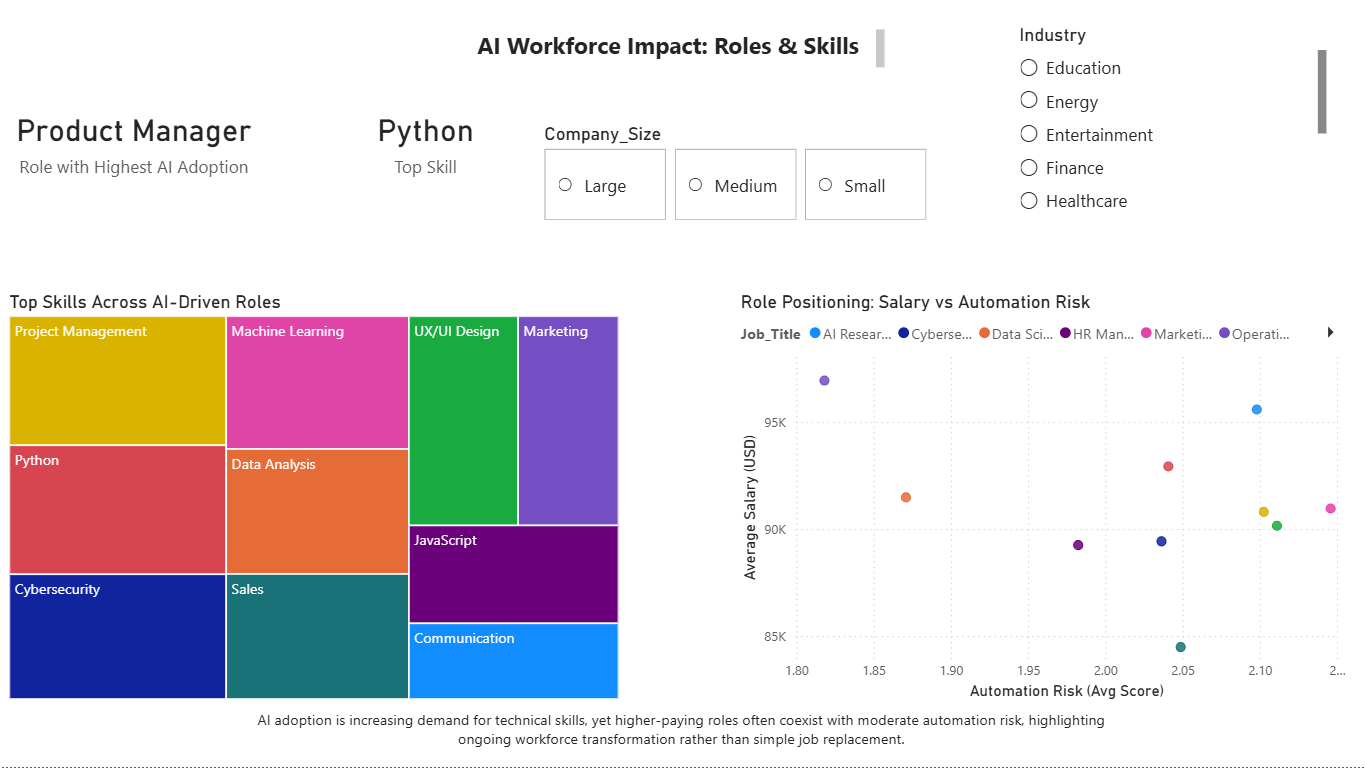

What the dashboard file says about the page in this screenshot:
{"tool":"powerbi","page":{"name":"AI Workforce Impact: Roles & Skills","canvas":[1280,720],"ordinal":3},"visuals":[{"type":"card","fields":{"Values":["ai_job_market_insights.Top AI Role"]},"box":[10.1,47.8,241.7,177.5],"z":0},{"type":"card","fields":{"Values":["ai_job_market_insights.Top Skill"]},"box":[251.8,47.8,300.9,177.5],"z":1000},{"type":"textbox","box":[445.6,29,389,50.4],"z":1001},{"type":"advancedSlicerVisual","fields":{"Values":["ai_job_market_insights.Company_Size"]},"box":[508.6,120.9,365.1,95.7],"z":1002},{"type":"listSlicer","fields":{"Values":["ai_job_market_insights.Industry"]},"box":[950.2,29.5,295.3,187.5],"z":1003},{"type":"treemap","title":"Top Skills Across AI-Driven Roles","fields":{"Values":["CountNonNull(ai_job_market_insights.Required_Skills)"],"Details":["ai_job_market_insights.Required_Skills"]},"box":[10.1,276.9,576.6,385.2],"z":1004},{"type":"scatterChart","title":"Role Positioning: Salary vs Automation Risk","fields":{"X":["Avg(ai_job_market_insights.Automation Risk Score)"],"Y":["Avg(ai_job_market_insights.Overall Average Salary)"],"Series":["ai_job_market_insights.Job_Title"]},"box":[691.1,276.9,572.8,385.2],"z":1005},{"type":"textbox","box":[226.6,662.2,827.1,47.8],"z":1006}]}

Visuals, with their boxes in screenshot pixels (x1, y1, x2, y2), scaled from the page's 1280x720 canvas onto the 1365x768 screenshot:
card - ai_job_market_insights.Top AI Role: {"x1": 11, "y1": 51, "x2": 269, "y2": 240}
card - ai_job_market_insights.Top Skill: {"x1": 269, "y1": 51, "x2": 589, "y2": 240}
textbox: {"x1": 475, "y1": 31, "x2": 890, "y2": 85}
advancedSlicerVisual - ai_job_market_insights.Company_Size: {"x1": 542, "y1": 129, "x2": 932, "y2": 231}
listSlicer - ai_job_market_insights.Industry: {"x1": 1013, "y1": 31, "x2": 1328, "y2": 231}
"Top Skills Across AI-Driven Roles" treemap: {"x1": 11, "y1": 295, "x2": 626, "y2": 706}
"Role Positioning: Salary vs Automation Risk" scatterChart: {"x1": 737, "y1": 295, "x2": 1348, "y2": 706}
textbox: {"x1": 242, "y1": 706, "x2": 1124, "y2": 757}
